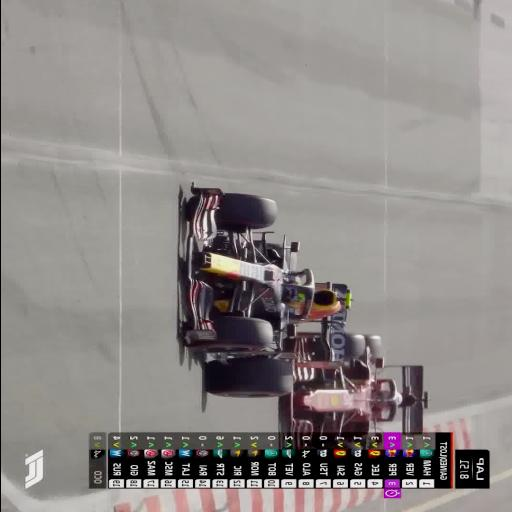f1_car: (185, 184, 350, 398), (281, 334, 428, 446), (294, 337, 318, 361), (311, 358, 326, 367), (340, 314, 344, 320), (329, 363, 336, 365), (340, 336, 343, 340), (331, 358, 336, 359)
